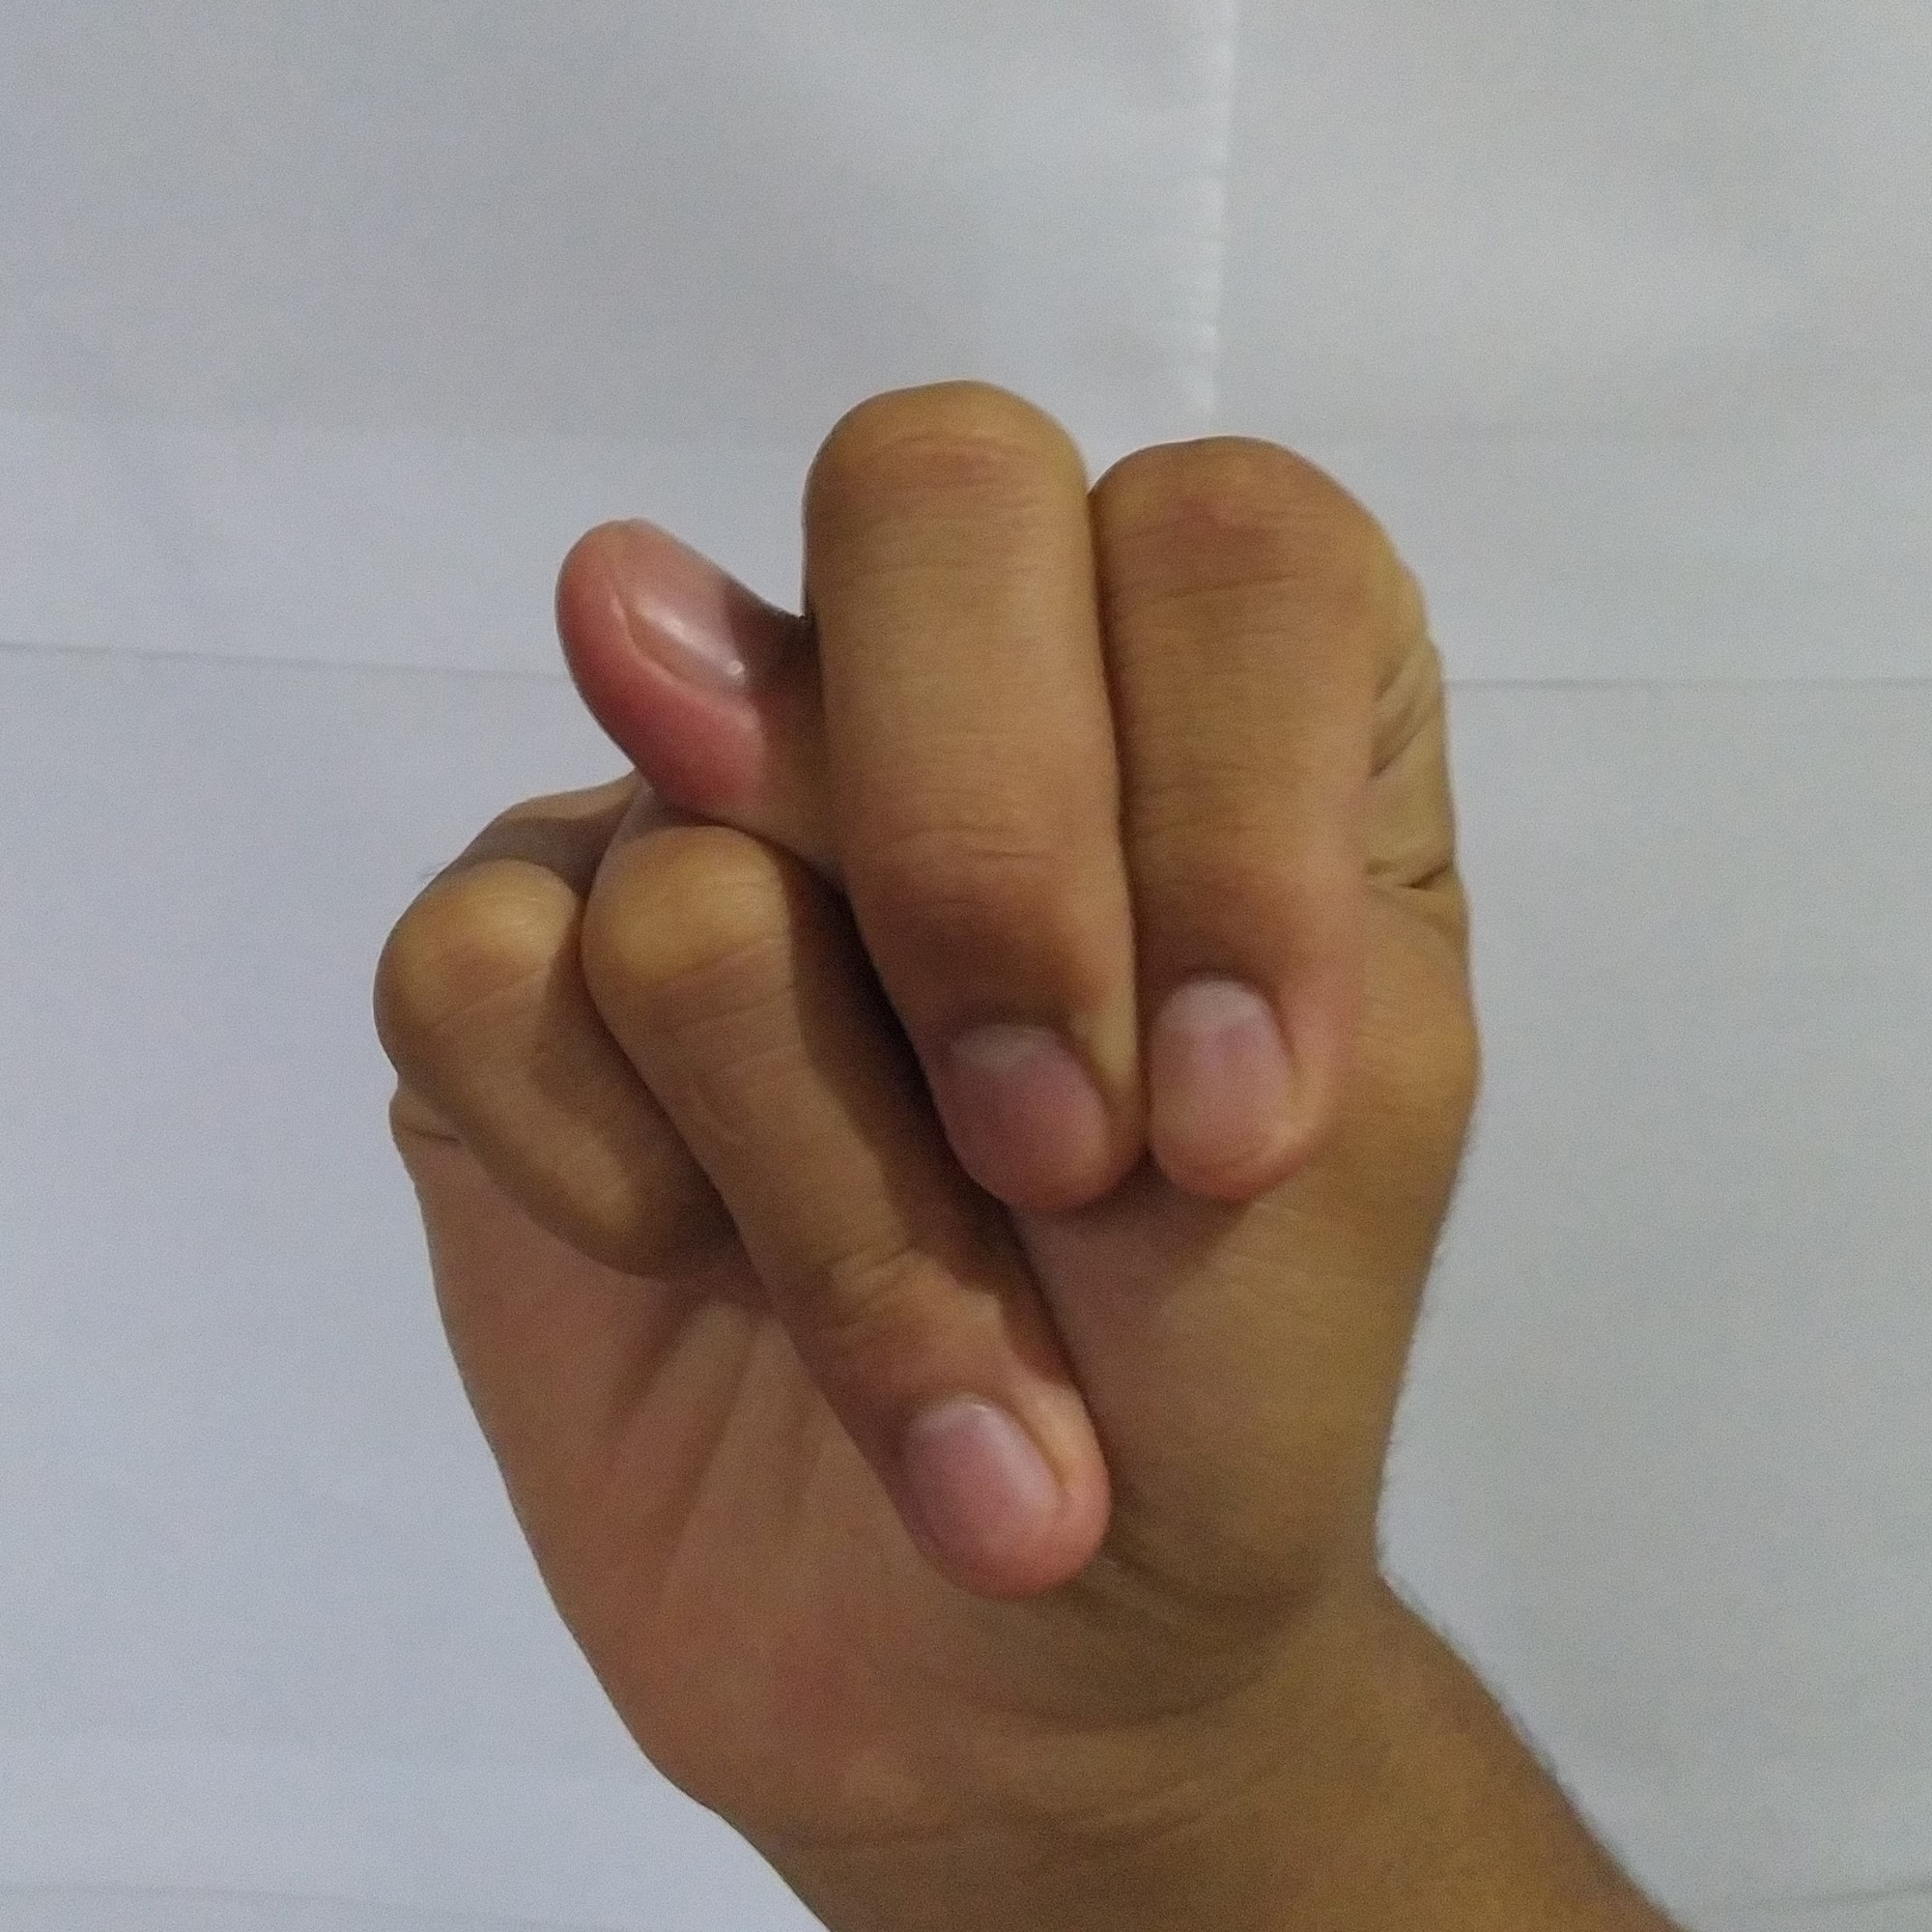N: (333, 350, 1511, 1739)
